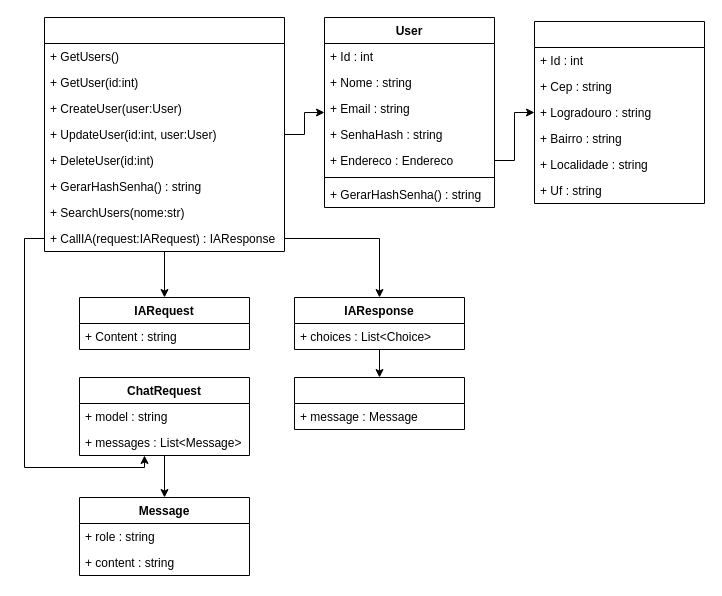
Some shapes in this 722 by 596 pixel diagram are drawn without their labels. The box of each missing label's shape, as (x1, y1, x2, y2) in pixels:
Choice: (294, 376, 464, 430)
Endereco: (534, 20, 704, 204)
UsersController: (44, 16, 284, 252)
